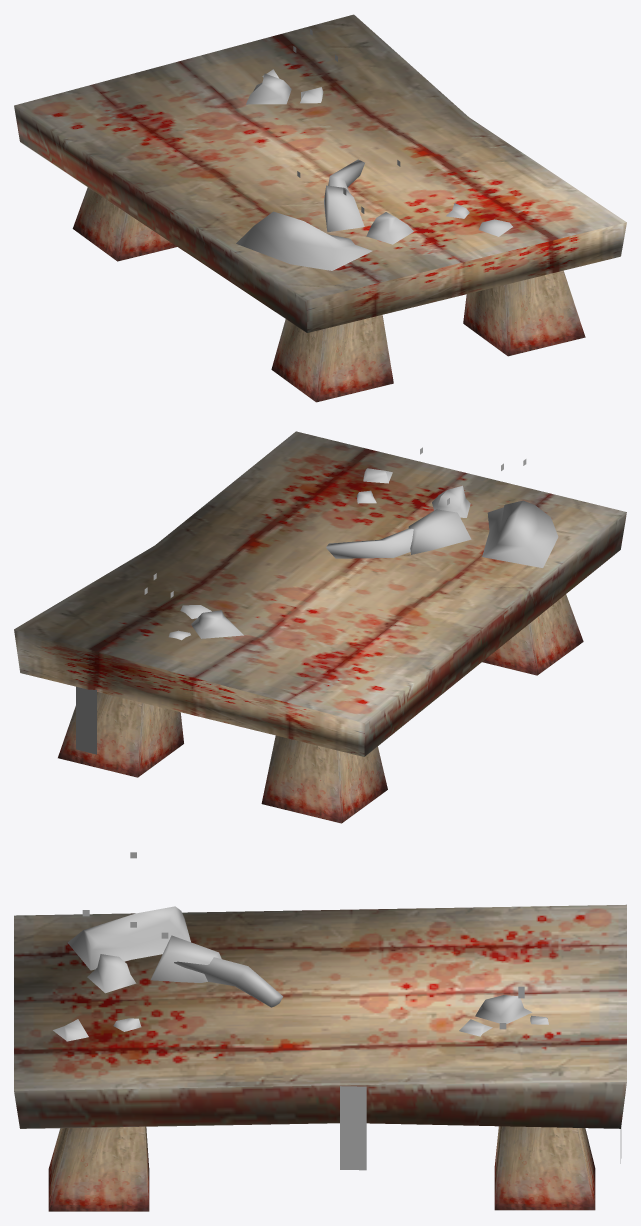
File: bloodytable2.obj
3 renders of one model, top to bottom at view 1: azimuth 30°, elevation 25°; view 2: azimuth 150°, elevation 25°; view 3: azimuth 270°, elevation 25°, orthographic. The views are drawn at different scales.
Visible parts, largest first — view 1: Geoset0, Geoset1; view 2: Geoset0, Geoset1, Geoset2; view 3: Geoset0, Geoset1, Geoset2.
Boxes of the visible parts, box(x1,y1,x2,y2) form: Geoset0: box(14, 14, 626, 402); Geoset1: box(236, 69, 512, 270); Geoset0: box(14, 431, 626, 823); Geoset1: box(168, 468, 558, 640); Geoset2: box(76, 686, 96, 754); Geoset0: box(14, 904, 626, 1211); Geoset1: box(53, 906, 548, 1041); Geoset2: box(340, 1086, 621, 1170).
Bounding box in the file's own units: 2.86 × 1.6 × 3.98.
